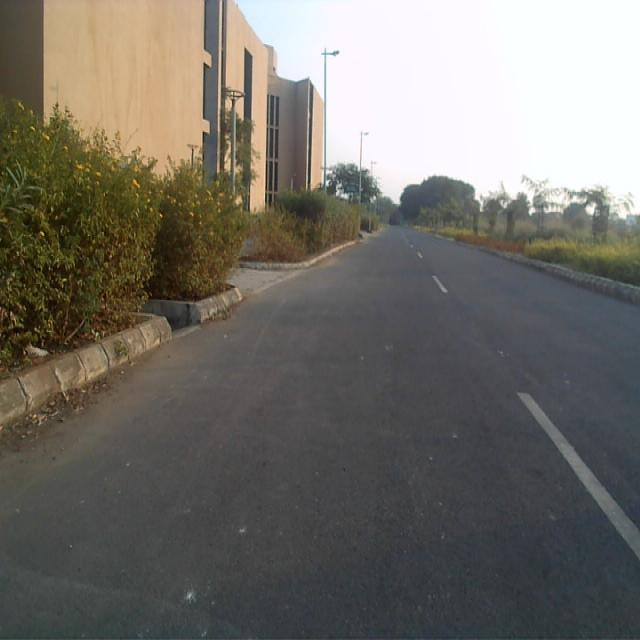lane: (0, 229, 640, 640)
